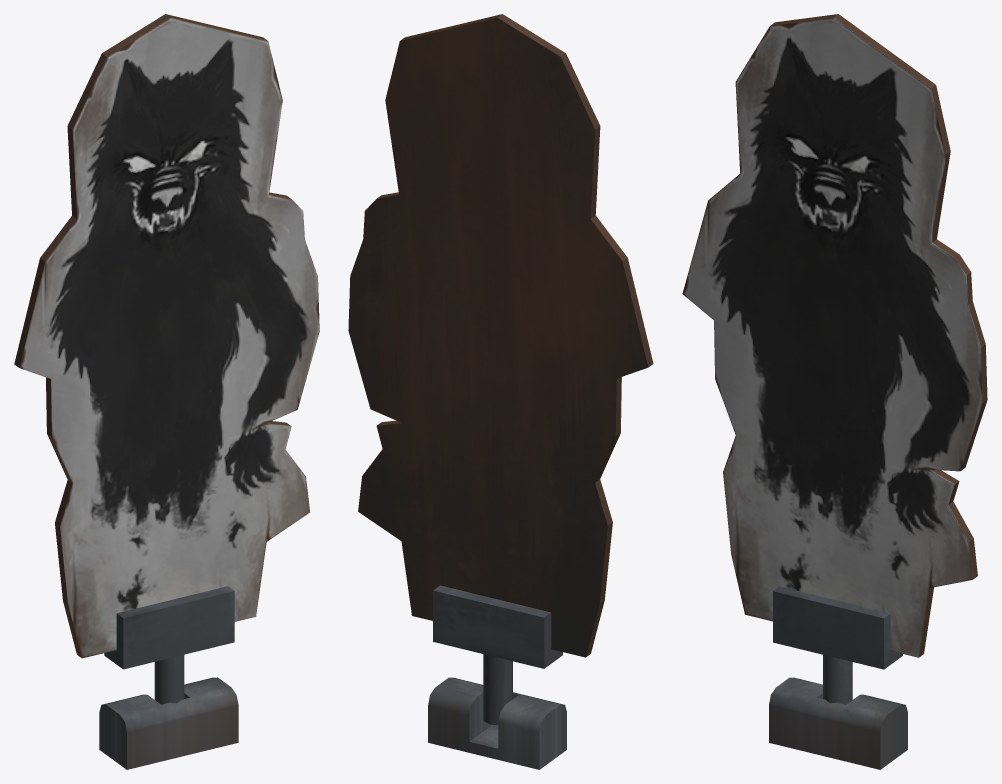
Rendered from target_werewolf.glb.
The picture shows the model from 3 angles, left to right: view 1: azimuth 30°, elevation 25°; view 2: azimuth 150°, elevation 25°; view 3: azimuth 330°, elevation 25°; orthographic projection.
Parts seen in each view (by area): view 1: target, support_target; view 2: target, support_target; view 3: target, support_target.
Boxes of the visible parts, x1=… form: target: x1=14, y1=14, x2=319, y2=704; support_target: x1=99, y1=677, x2=238, y2=769; target: x1=348, y1=14, x2=653, y2=724; support_target: x1=428, y1=677, x2=566, y2=769; target: x1=682, y1=14, x2=987, y2=704; support_target: x1=769, y1=677, x2=907, y2=769.
Bounding box in the file's own units: 1.4 × 3.26 × 0.2234.
Materials: 1 (1 with a texture image).
